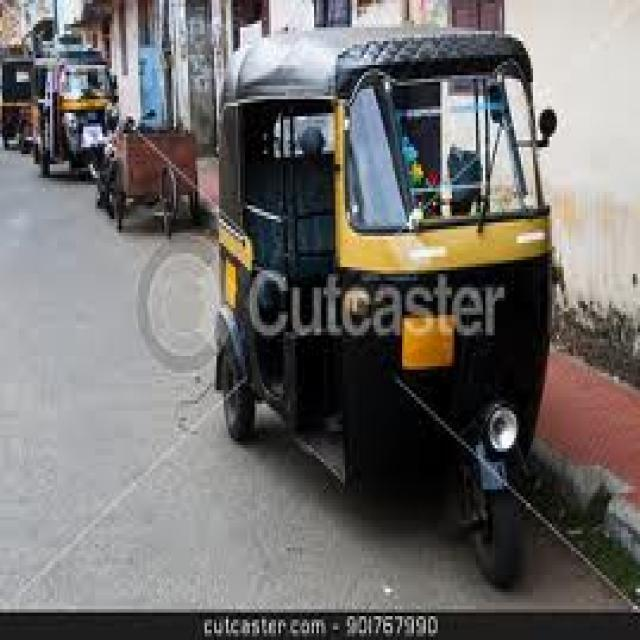auto_front: (194, 13, 580, 560), (30, 30, 124, 186)
